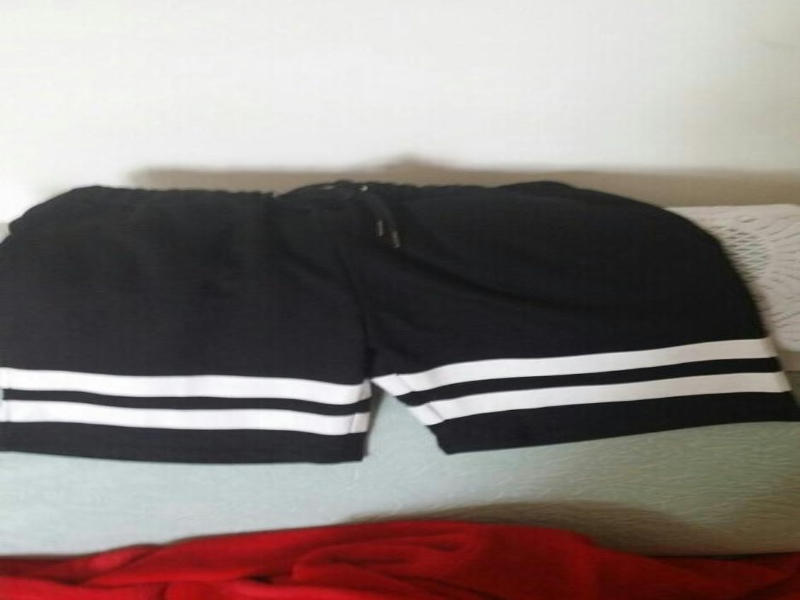shorts: (0, 175, 798, 469)
